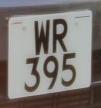3: (20, 52, 44, 97)
5: (60, 50, 80, 91)
9: (42, 53, 61, 93)
R: (50, 14, 73, 58)
W: (31, 14, 53, 60)
